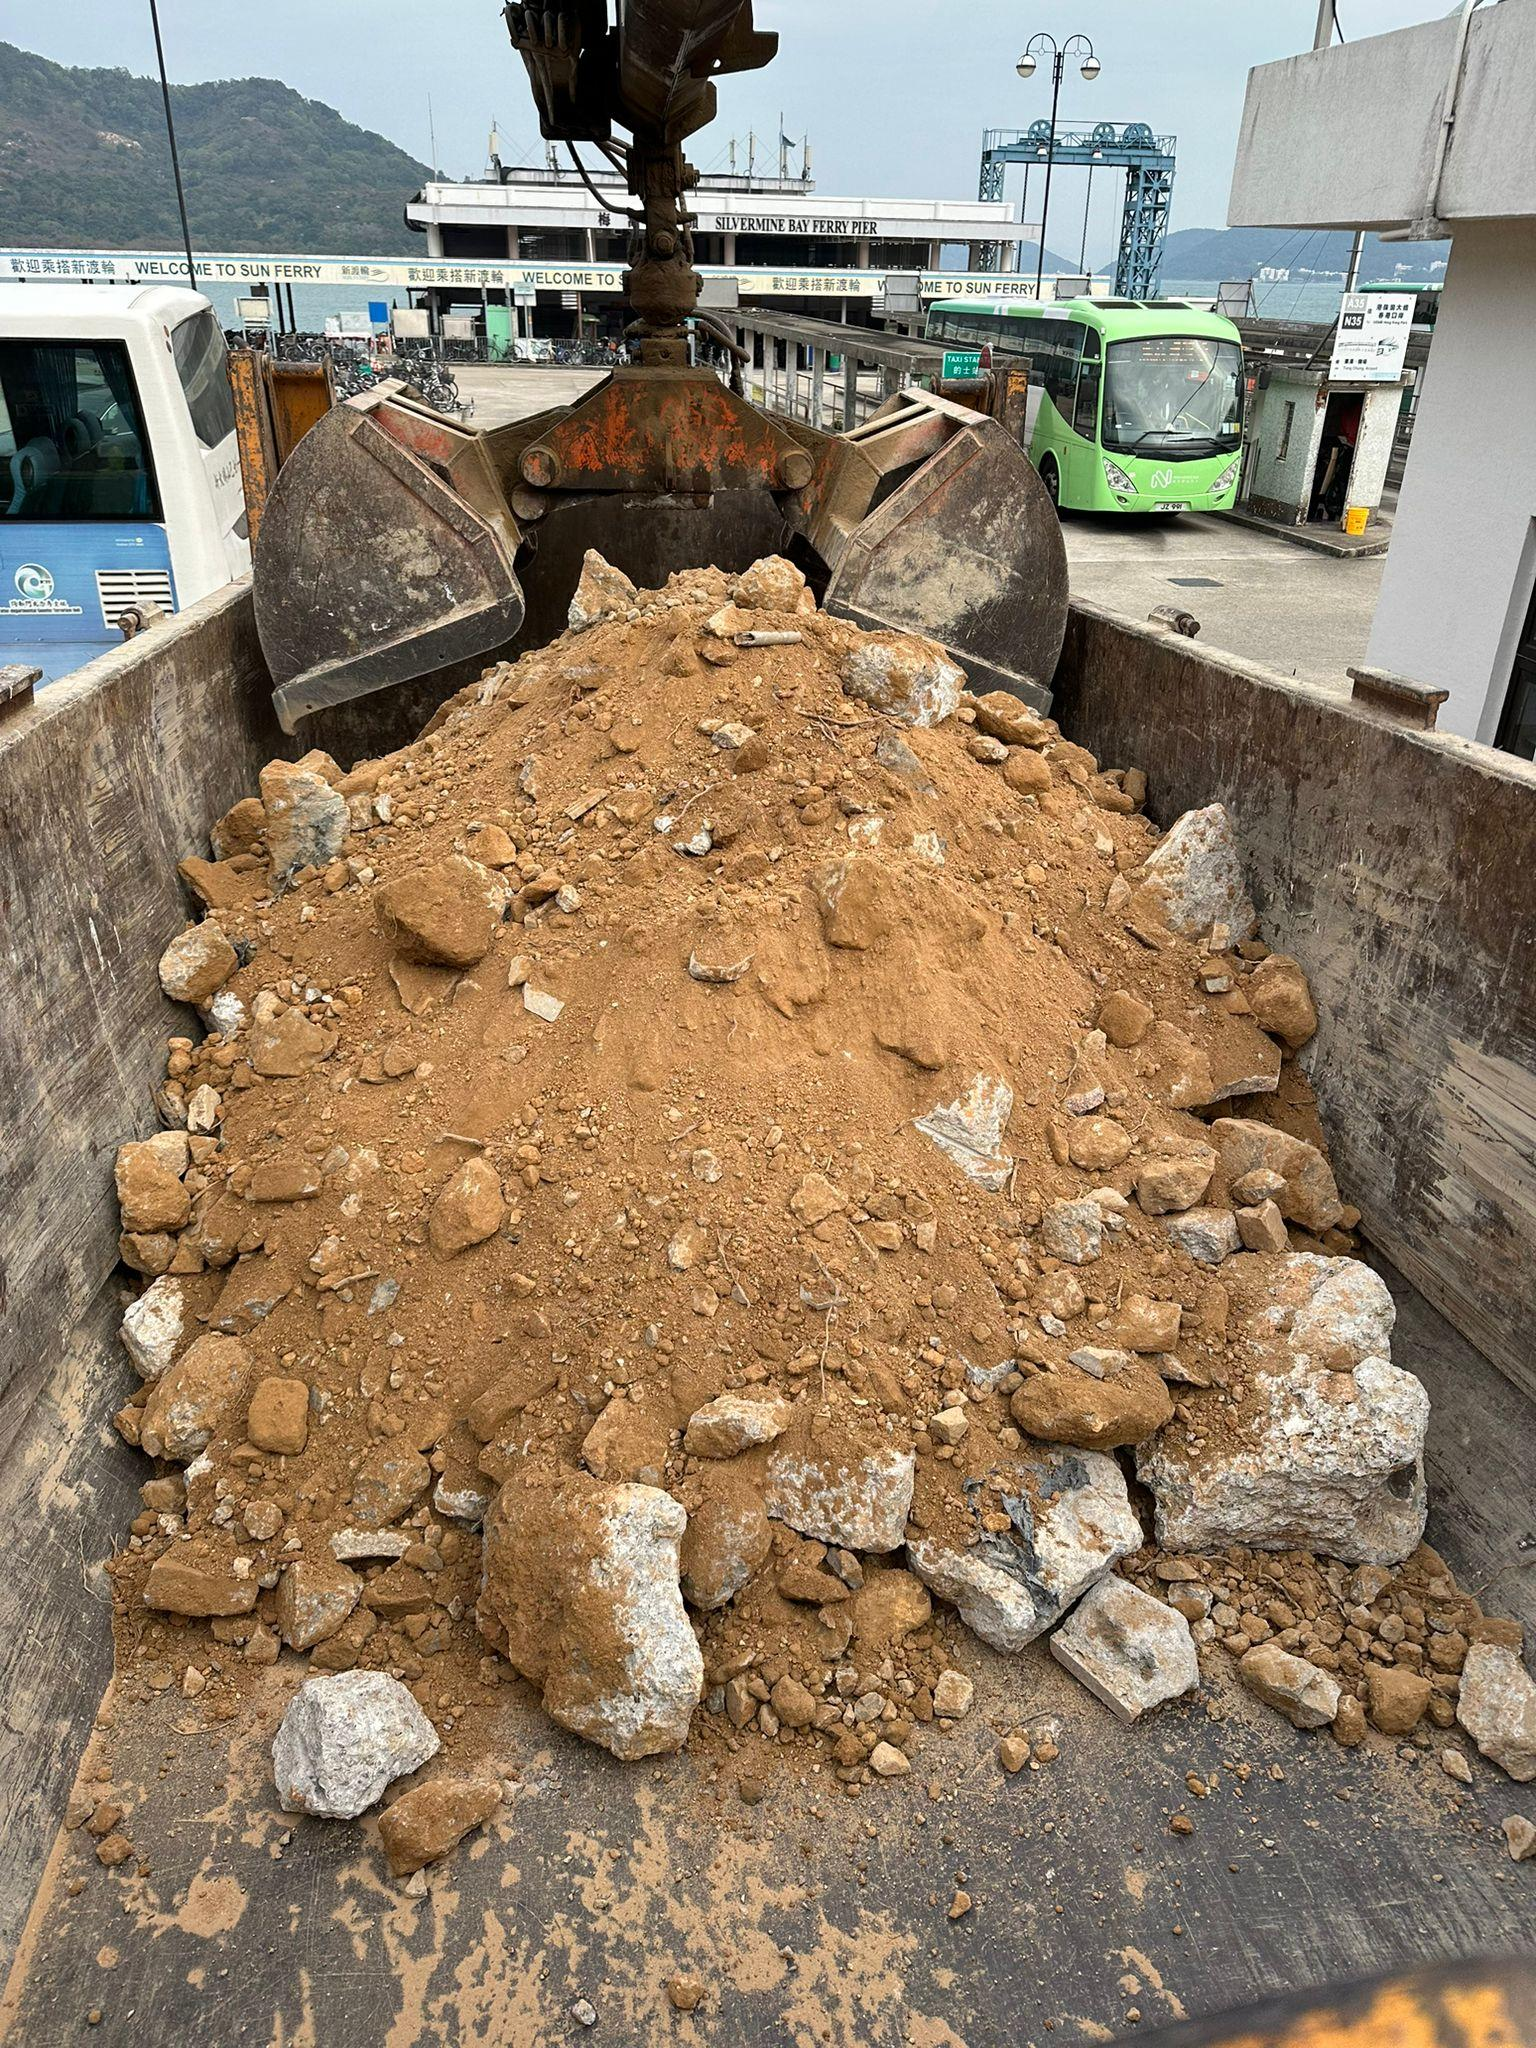dry: (170, 573, 1337, 1627)
